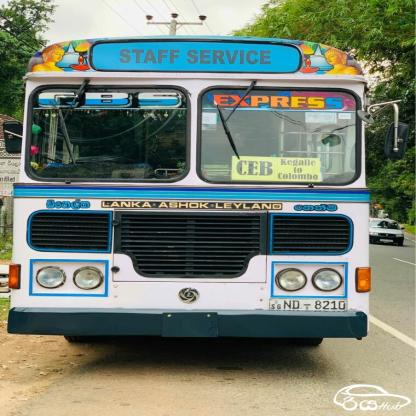bus front: (15, 34, 374, 350)
number plate: (267, 298, 348, 314)
